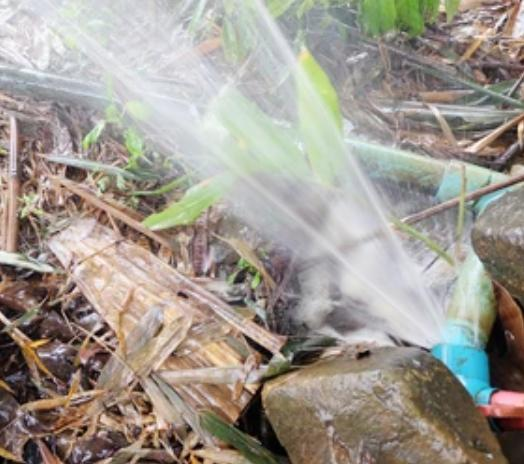pipe burst: (0, 0, 483, 352)
